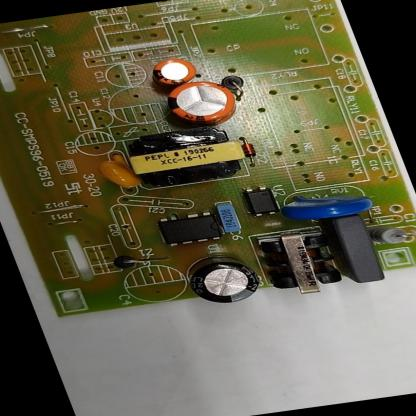Cap1: (161, 79, 240, 127)
Cap2: (151, 55, 200, 86)
Cap3: (181, 250, 262, 308)
MOSFET: (159, 210, 223, 246)
Mov: (276, 187, 376, 224)
Resistor: (368, 221, 413, 248)
Transformer: (117, 122, 253, 190), (252, 228, 349, 298)
